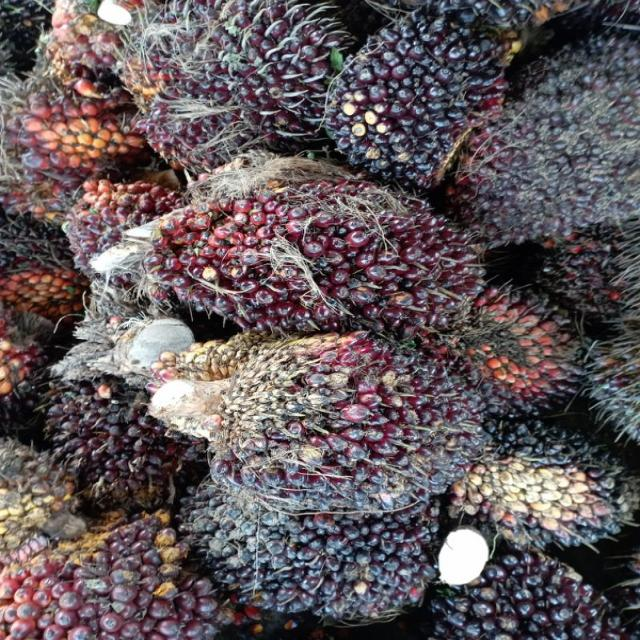fraksi 00: (200, 475, 443, 614), (117, 0, 331, 153), (328, 11, 512, 182), (456, 427, 640, 550)
fraksi 1: (143, 171, 480, 334), (178, 332, 489, 500), (457, 283, 593, 419)
fraksi 3: (0, 512, 226, 640), (0, 81, 137, 182)
